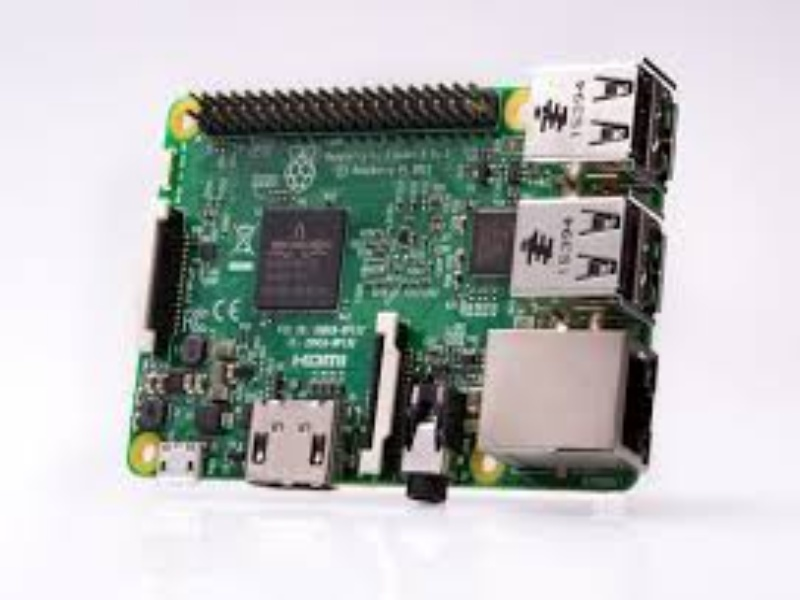raspberrypi: (127, 49, 680, 521)
